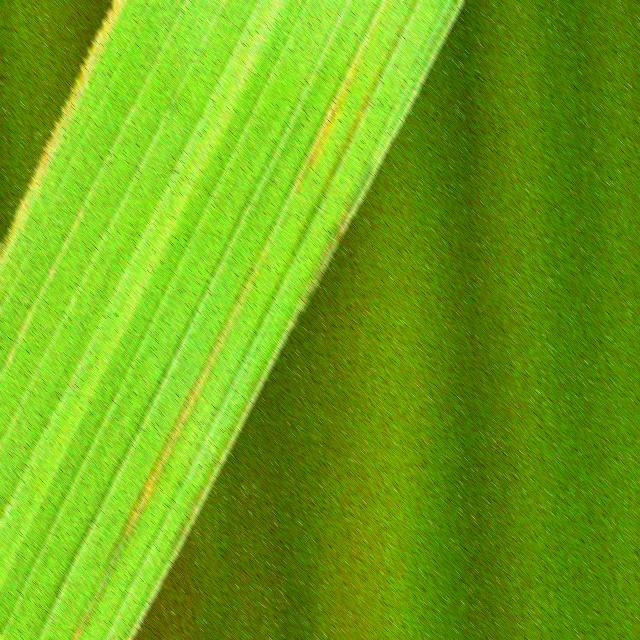BLS: (72, 236, 264, 640), (297, 3, 414, 240), (295, 72, 349, 198), (86, 0, 126, 76)
